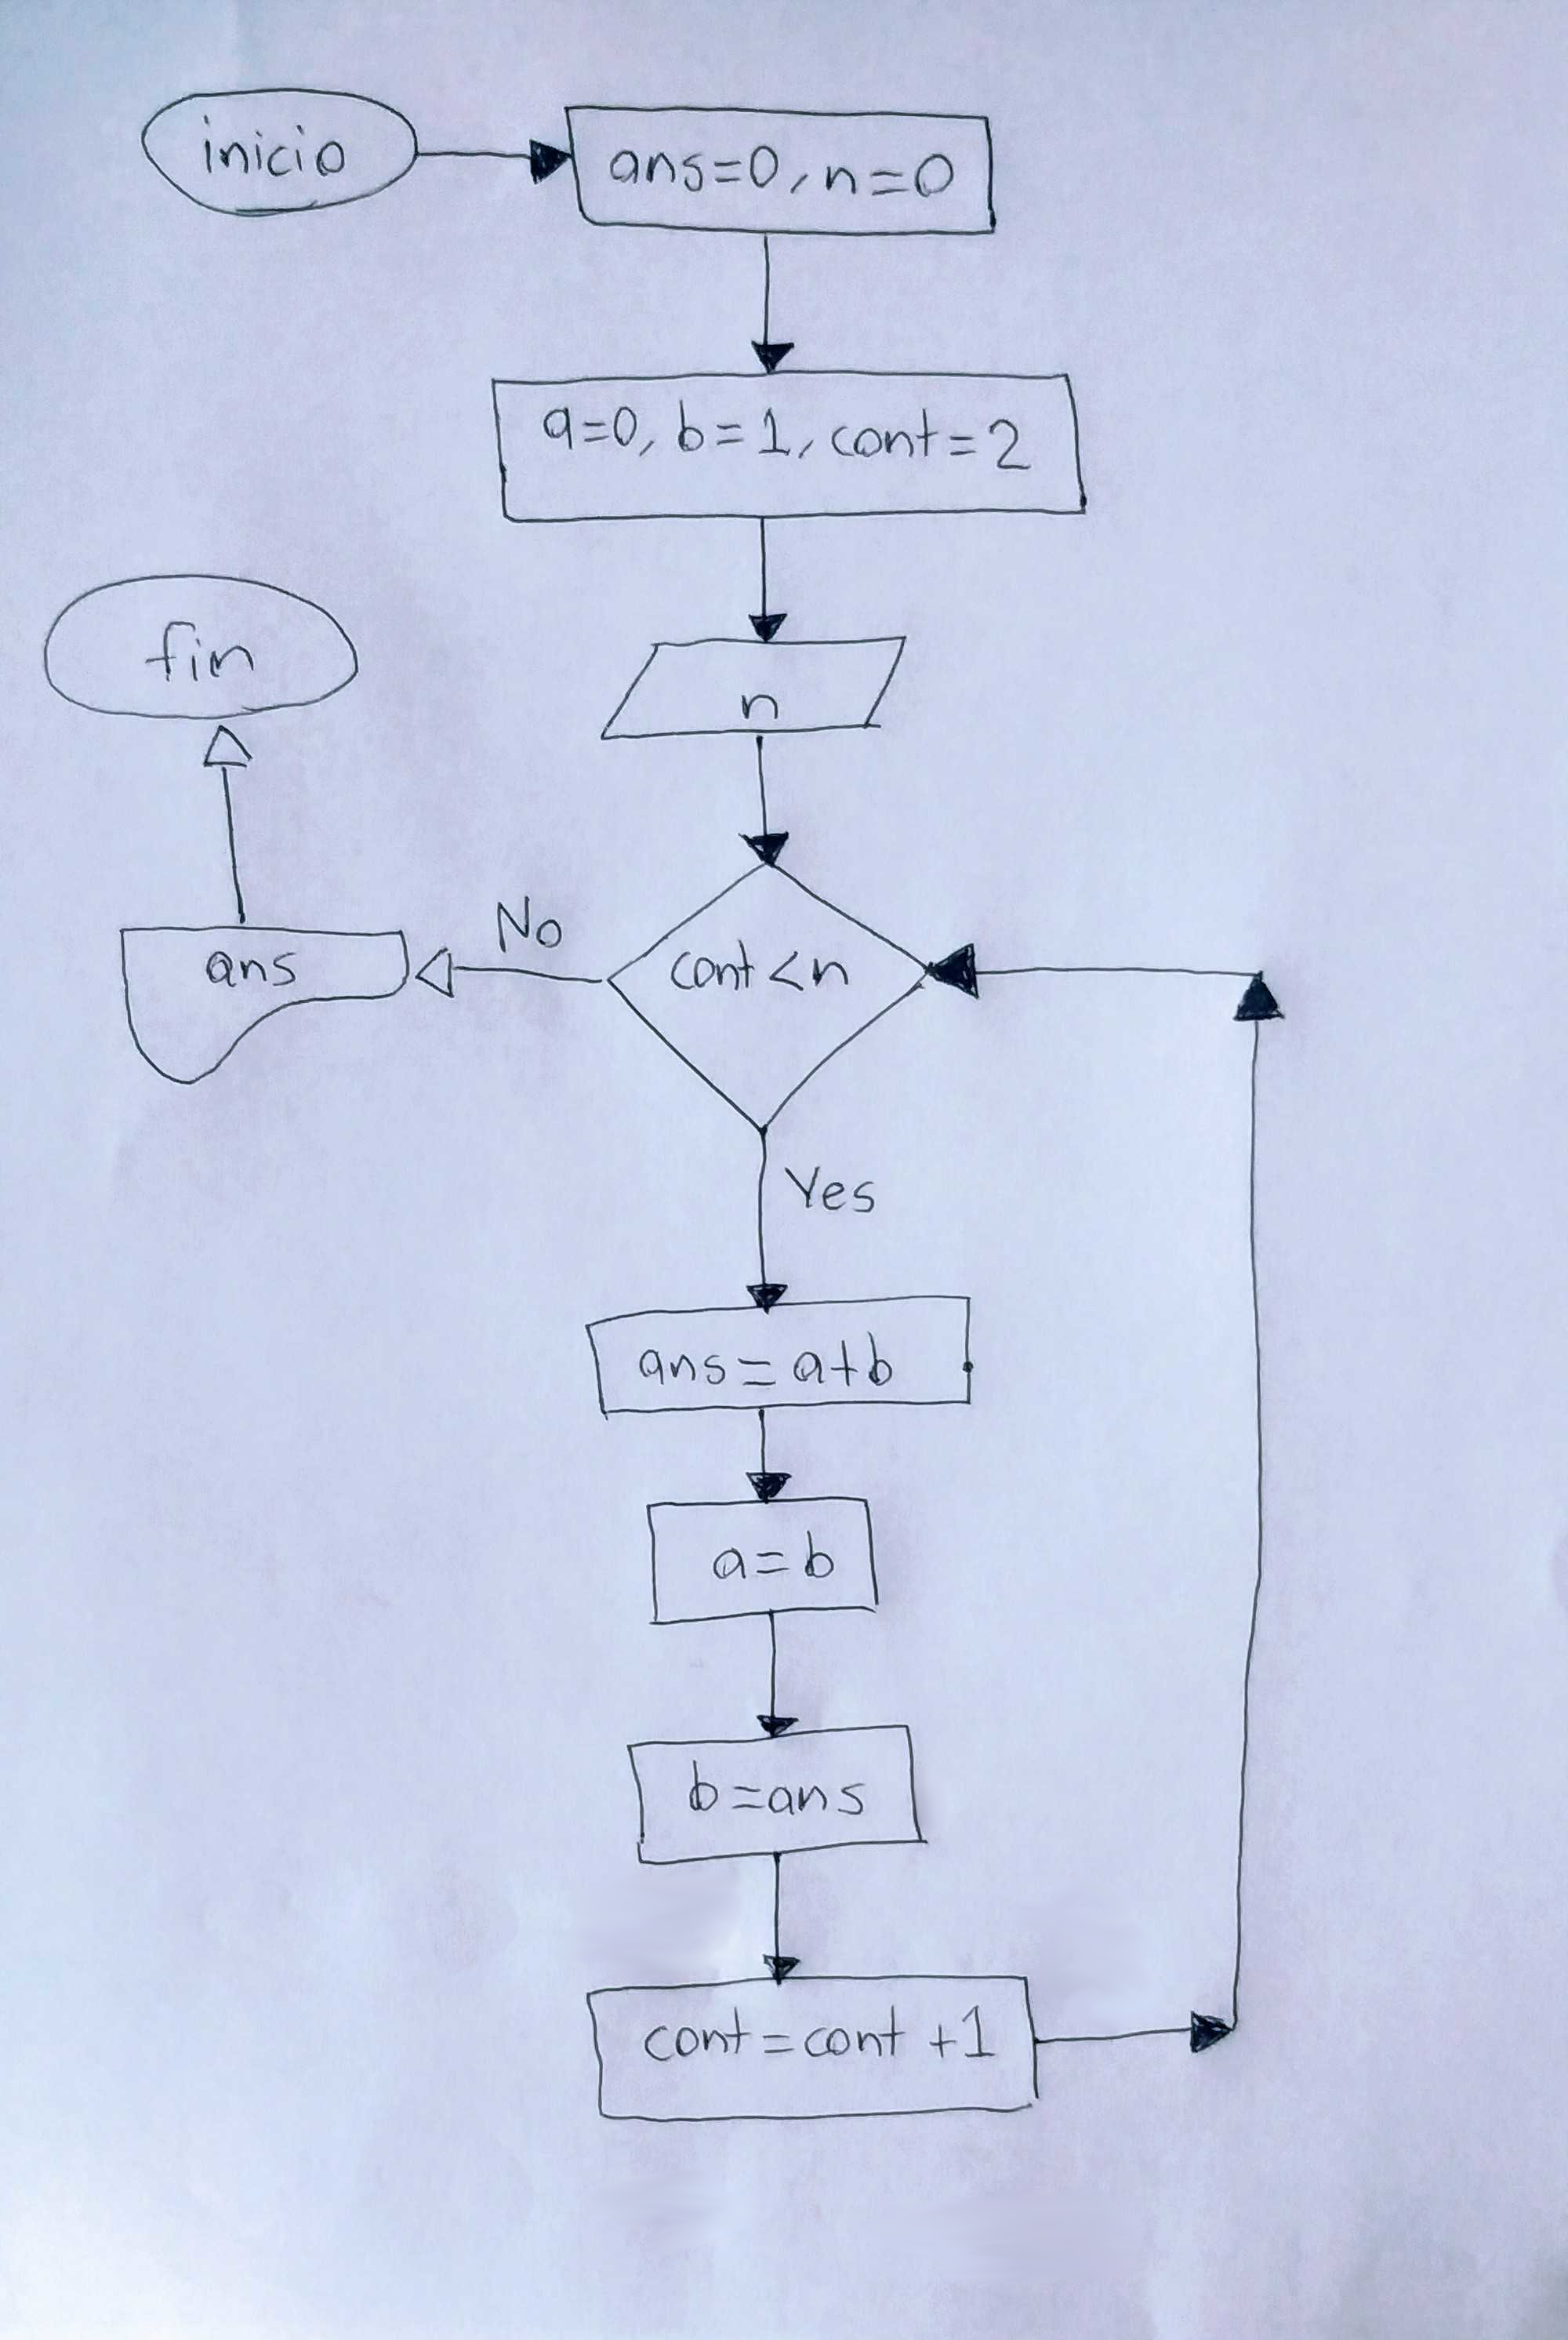arrow_line_down: (742, 1129, 801, 1306), (735, 733, 798, 868), (746, 229, 798, 376), (754, 1852, 801, 1985), (742, 515, 791, 642), (751, 1612, 798, 1734), (740, 1407, 793, 1502)
arrow_line_left: (931, 942, 1263, 1005), (413, 942, 609, 1008)
arrow_line_right: (1036, 2011, 1235, 2063), (415, 128, 572, 189)
arrow_line_up: (1227, 971, 1293, 2042), (196, 721, 266, 929)
decision: (604, 863, 931, 1132)
print: (108, 915, 408, 1085)
process: (483, 368, 1097, 534), (574, 1972, 1048, 2126), (562, 98, 1008, 247), (579, 1295, 989, 1425), (623, 1720, 931, 1867), (637, 1495, 892, 1633)
scan: (595, 634, 917, 744)
start_end: (35, 567, 364, 723), (133, 81, 424, 221)
